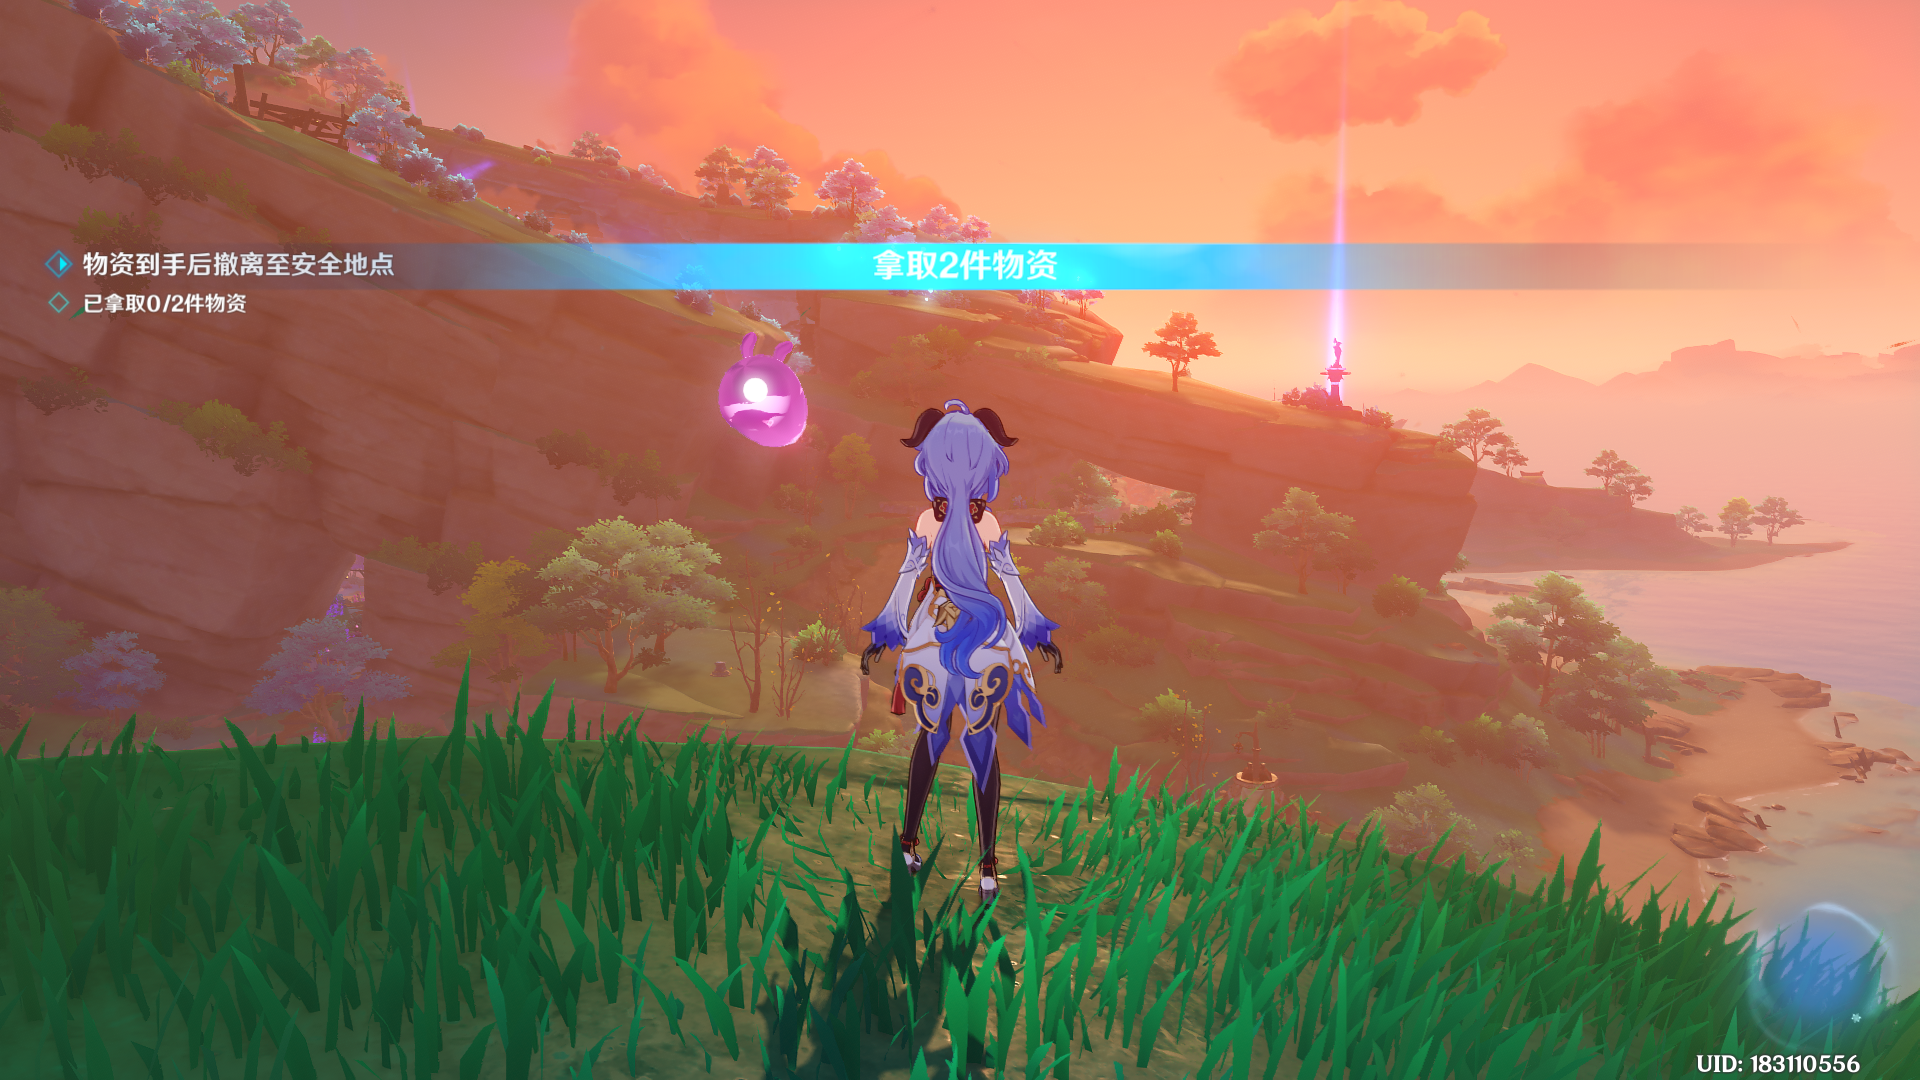character: (814, 367, 1113, 939)
